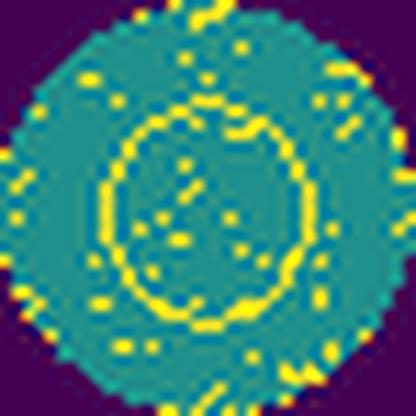Donut: (94, 88, 325, 342)
